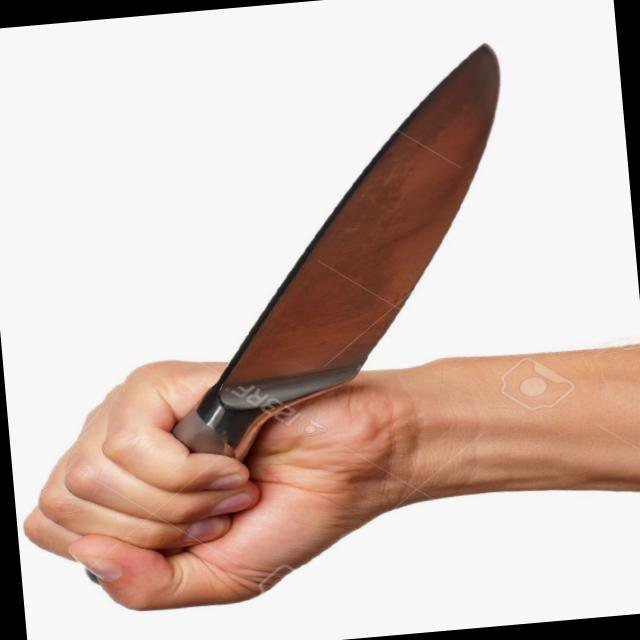knife: (28, 27, 549, 540)
